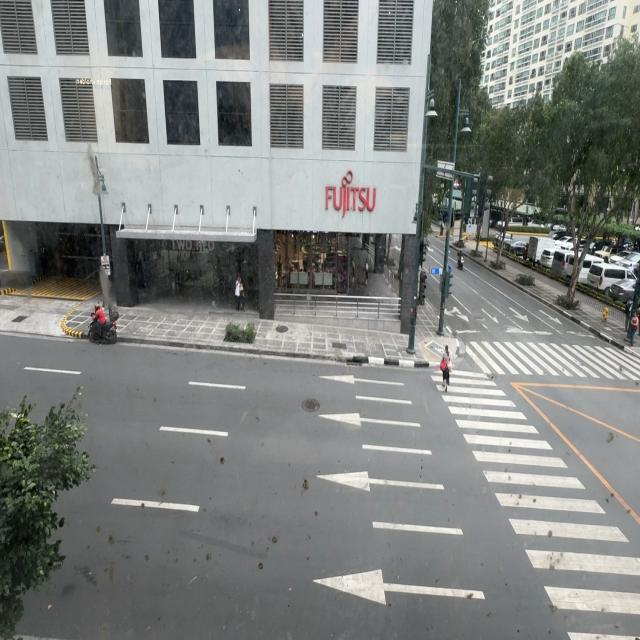crossing: (442, 344, 456, 389)
waiting: (626, 305, 638, 346)
